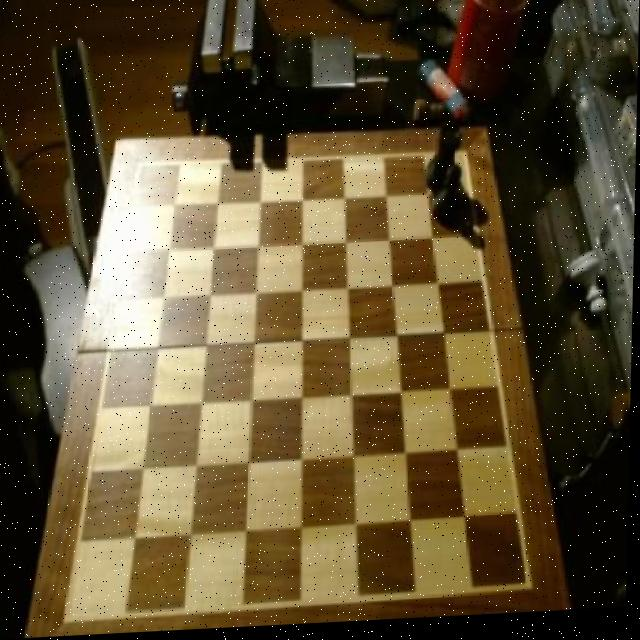black-knight: (432, 173, 466, 232)
black-queen: (425, 127, 466, 198)
